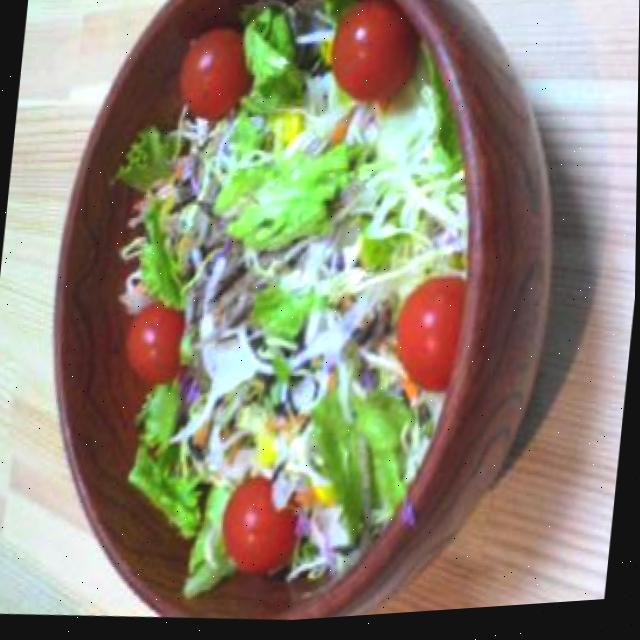蔬菜料理: (12, 0, 585, 639)
